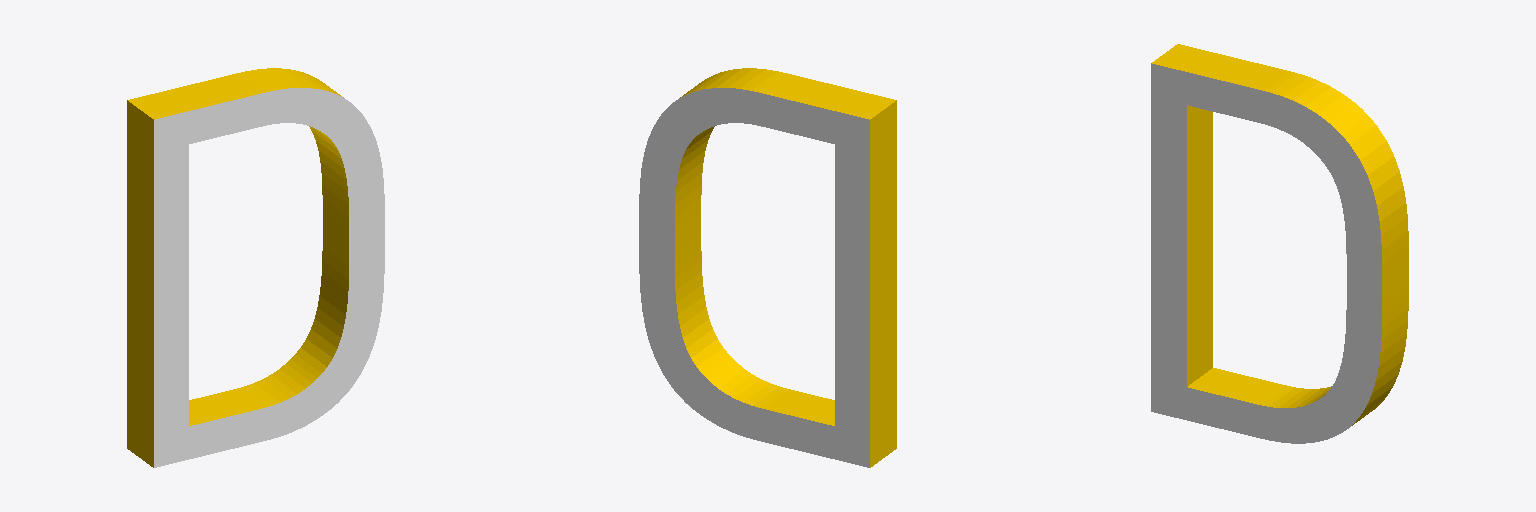
The picture shows the model from 3 angles: view 1: azimuth 30°, elevation 25°; view 2: azimuth 150°, elevation 25°; view 3: azimuth 330°, elevation 25°; orthographic projection.
Size of the model in its own units: 55.95 by 80.63 by 11.19.
5 materials, 1 textured.